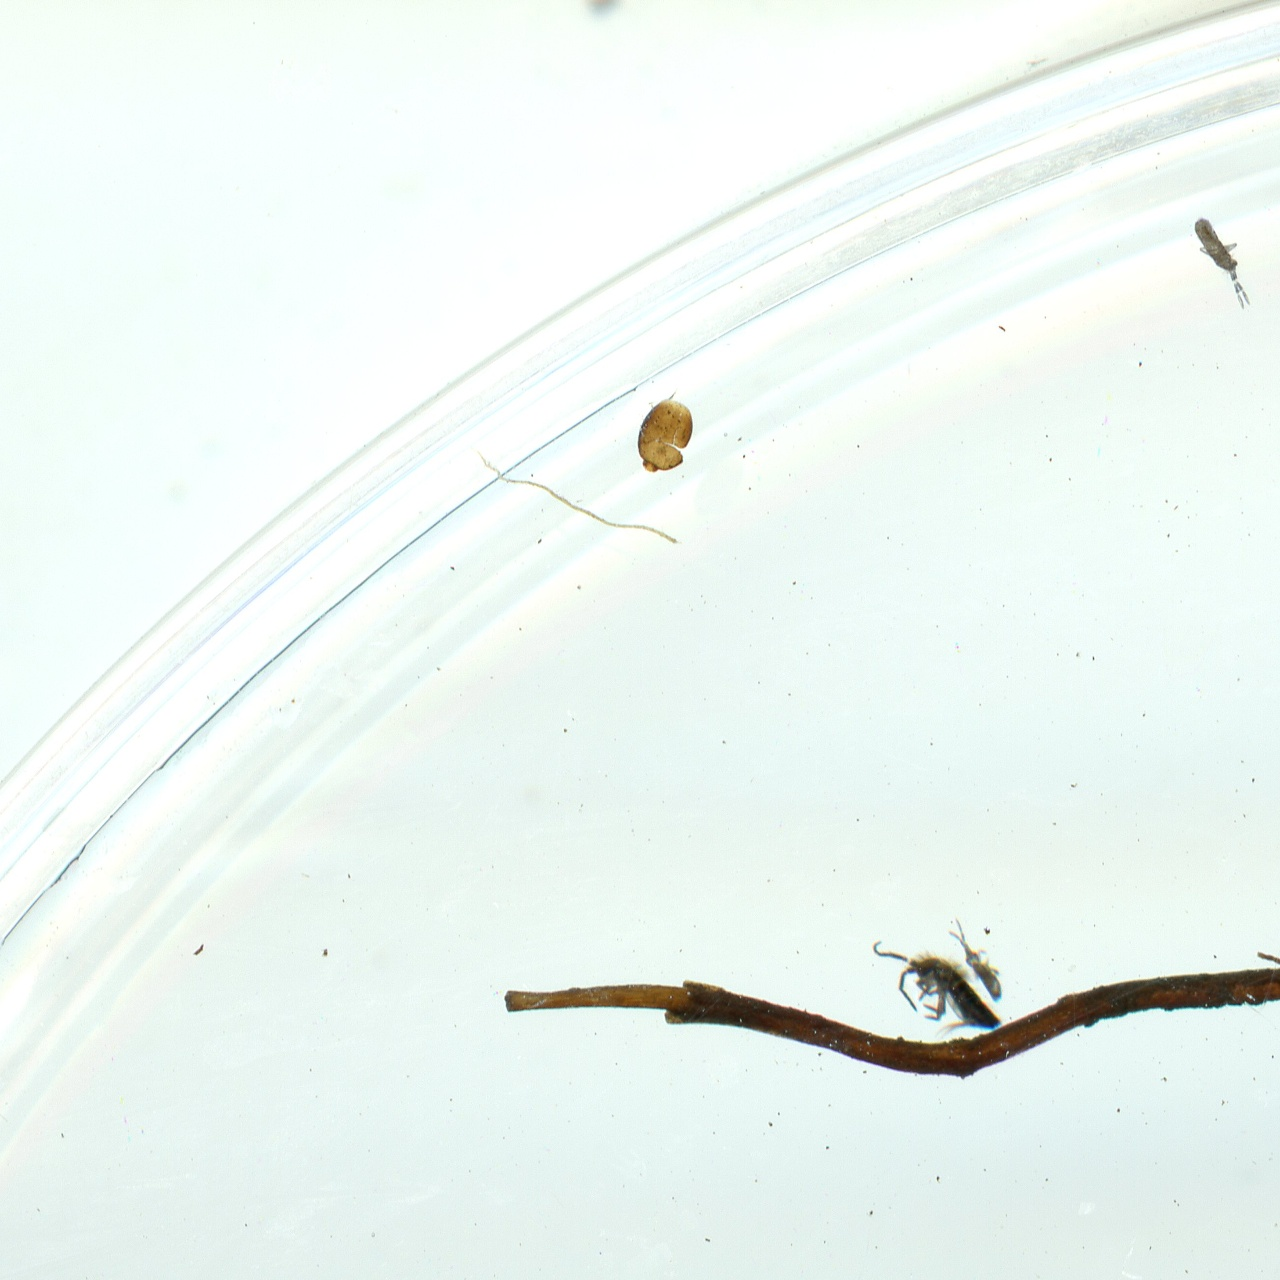arthropod: (865, 937, 1008, 1043), (1178, 195, 1270, 322), (933, 902, 1023, 1023)
